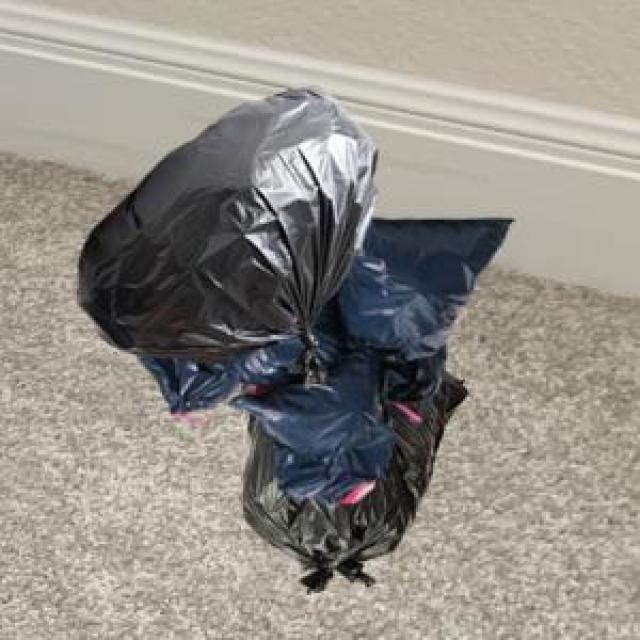garbage_bag: (73, 83, 515, 591)
